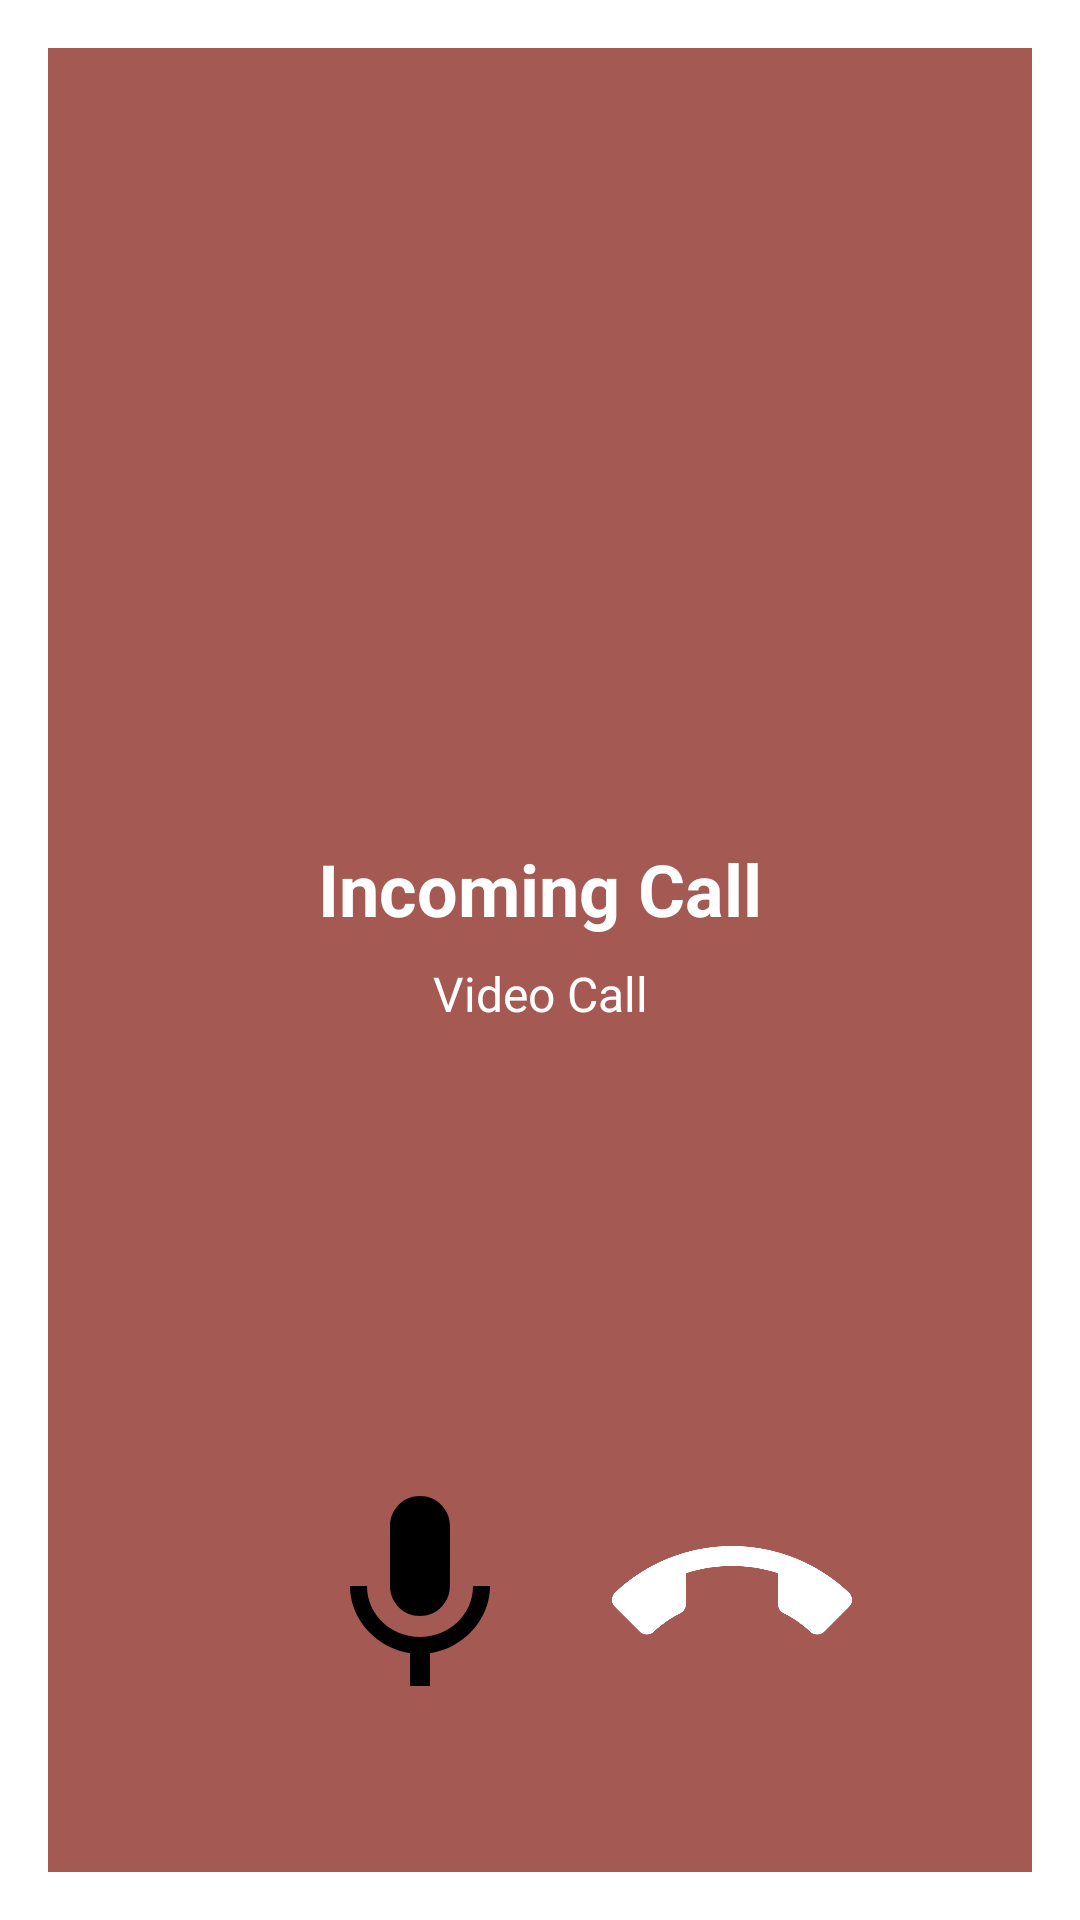

Screen size 1080w x 1920h. Icon name, then its center in pixels as (x,y):
endcall: (708,1590)
